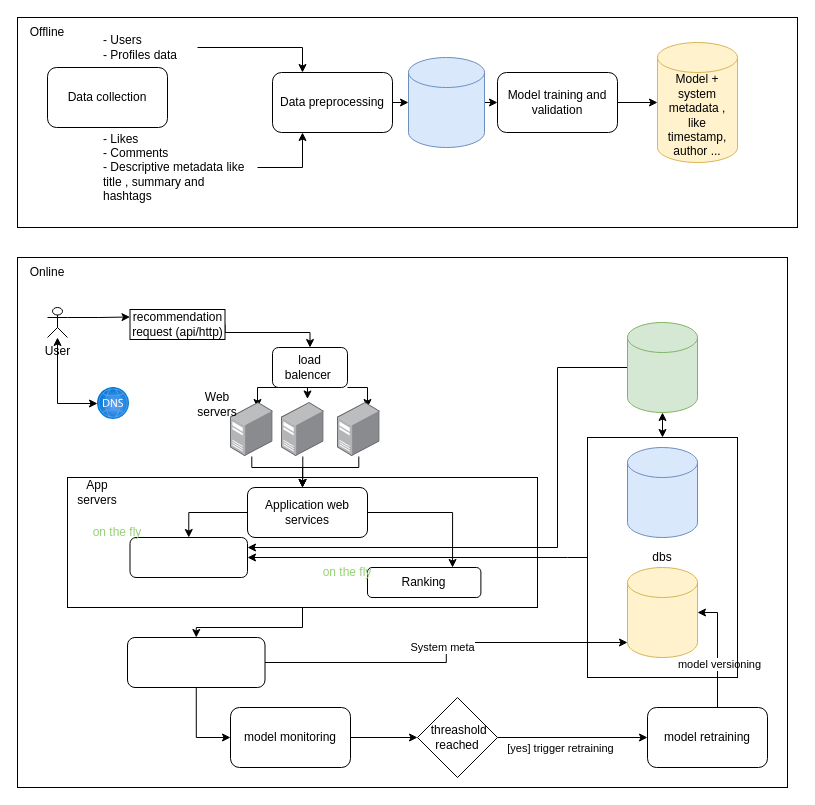
Some shapes in this 815 by 805 pixel diagram are drawn without their labels. The shapes that lost their labels are listed below. From the top down, each one's centre as x and y in pixels, then its label:
At point (446, 102): "features store servers (user profiles , videos data)".
At point (662, 367): "caching systems".
At point (662, 492): "replicated and sharded features store".
At point (188, 557): "Collaborative Filtering".
At point (662, 612): "replicated and sharded models store".
At point (195, 662): "metrics collection (MSE , buisness metrics like turnover, click rate ...)".
